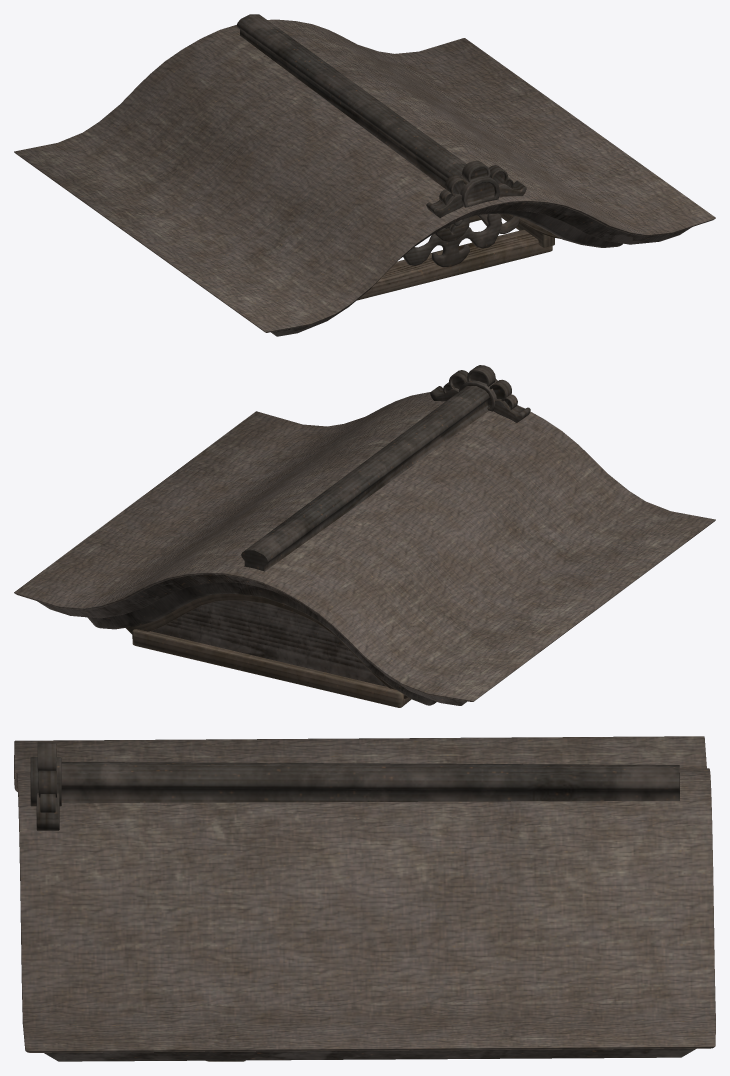
File: ShrineModule_Roof-09.fbx
3 views of the same model, one above another, from view 1: azimuth 30°, elevation 25°; view 2: azimuth 150°, elevation 25°; view 3: azimuth 270°, elevation 25° (orthographic). The views are drawn at different scales.
Parts seen in each view (by area): view 1: ShrineModule_Roof-09; view 2: ShrineModule_Roof-09; view 3: ShrineModule_Roof-09.
Part boxes in pixels (left/top/right/bottom): ShrineModule_Roof-09: left=14, top=14, right=715, bottom=336; ShrineModule_Roof-09: left=14, top=365, right=715, bottom=707; ShrineModule_Roof-09: left=14, top=736, right=715, bottom=1061.
Size of the model in its own units: 7.8 by 2.63 by 7.37.
